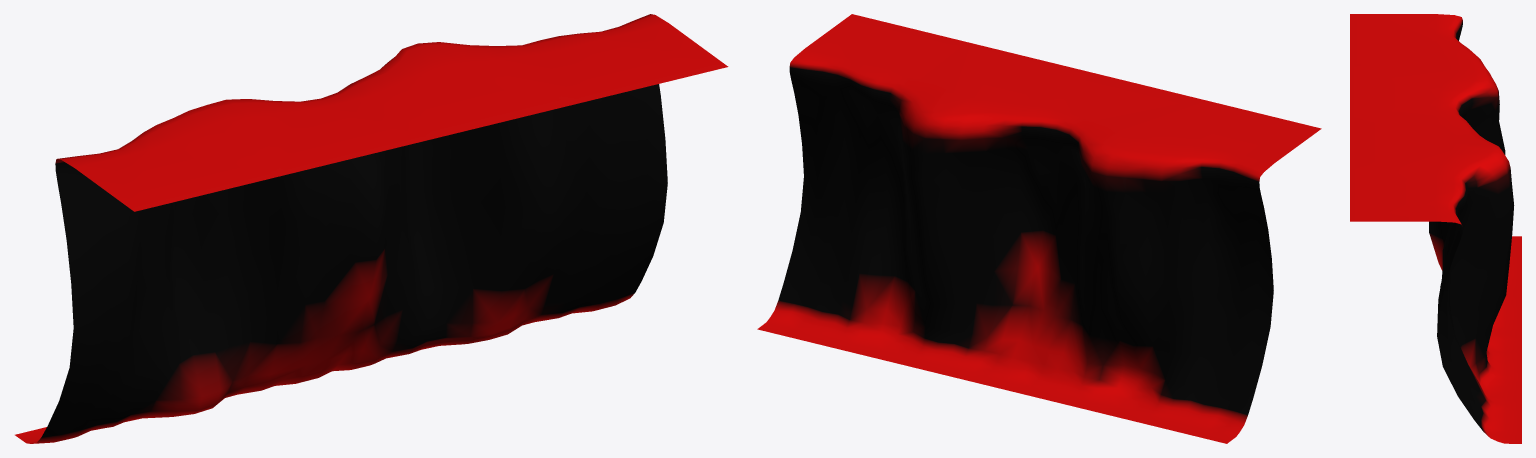
The model's file is GroundCliff02A 2M Background.fbx.
3 renders of one model, left to right at view 1: azimuth 30°, elevation 25°; view 2: azimuth 150°, elevation 25°; view 3: azimuth 270°, elevation 25°, orthographic. The views are drawn at different scales.
Visible parts, largest first — view 1: GroundCliff02A 2M Background; view 2: GroundCliff02A 2M Background; view 3: GroundCliff02A 2M Background.
Part boxes in pixels (x1,y1,x2,y2): GroundCliff02A 2M Background: (15, 14, 728, 443); GroundCliff02A 2M Background: (757, 14, 1321, 443); GroundCliff02A 2M Background: (1350, 14, 1521, 443).
Size of the model in its own units: 4 by 2 by 1.4.
